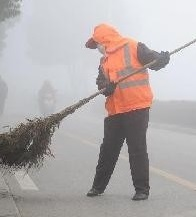person: (84, 21, 170, 201), (37, 78, 55, 114)
